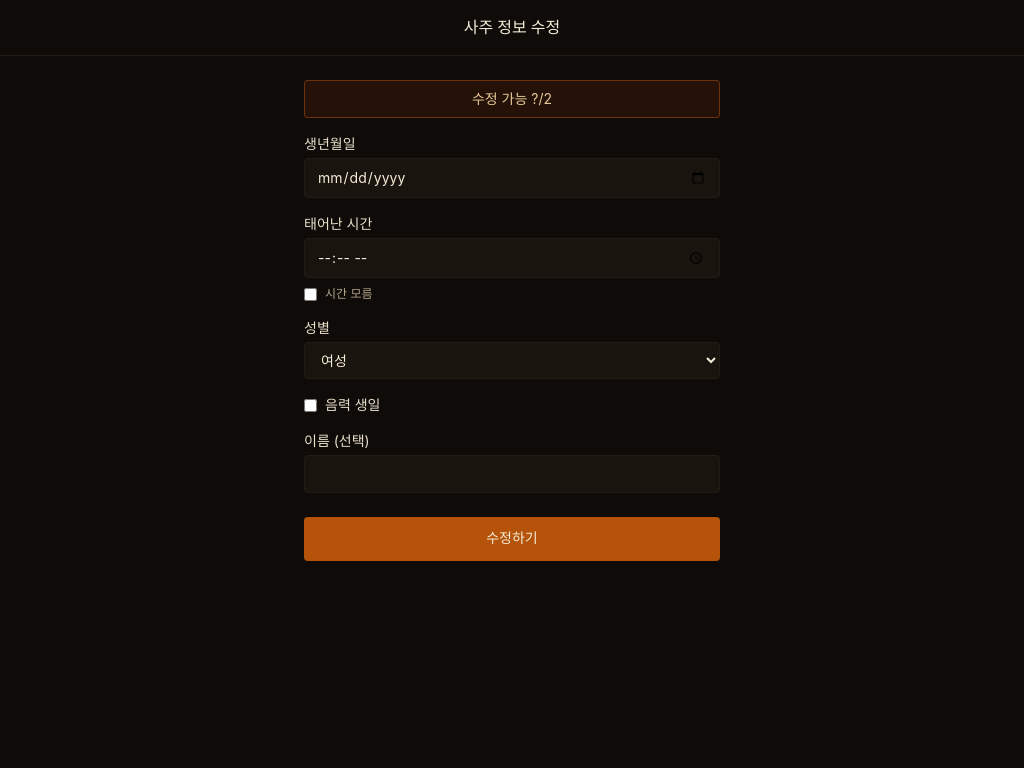
Test case: MeEditSajuPage › AC1: submit → confirm → PATCH success → counter banner updates
The image size is (1024, 768).
Expected: the element with test id "me-edit-saju-loaded" is shown, [288,56,736,767]
# Fill the form (date required).
In the date field with test id "me-edit-saju-input-date": [512, 178] box [304,158,720,198], type "1998-09-14"
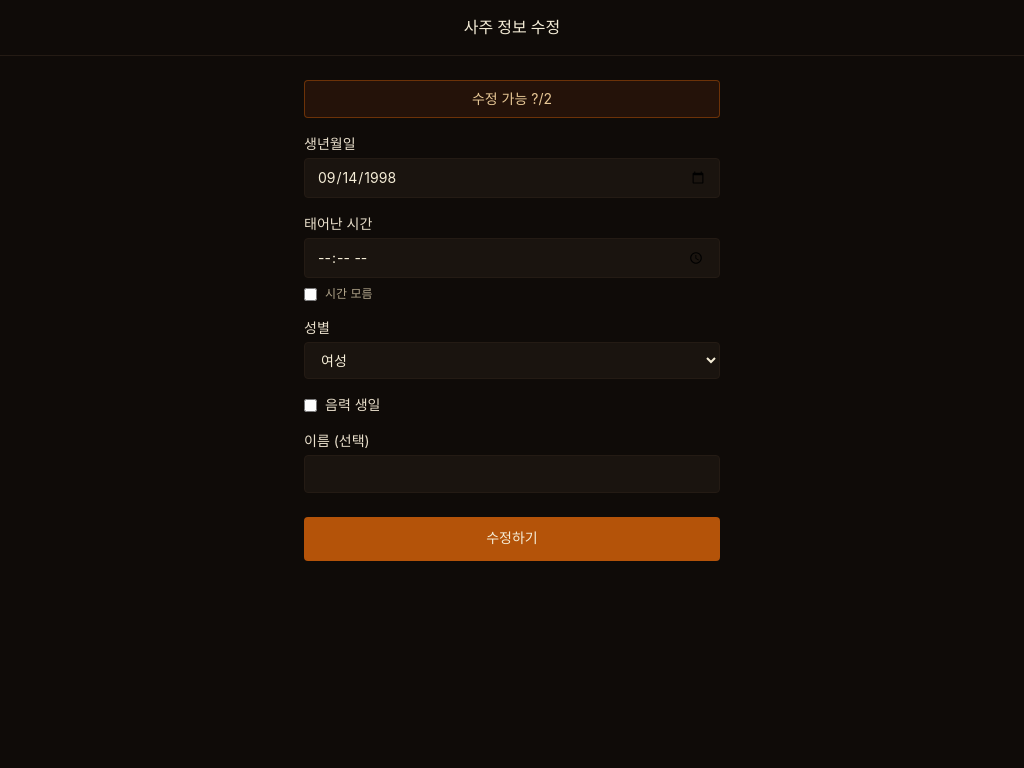
In the time field with test id "me-edit-saju-input-time": [512, 258] box [304,238,720,278], type "09:45"
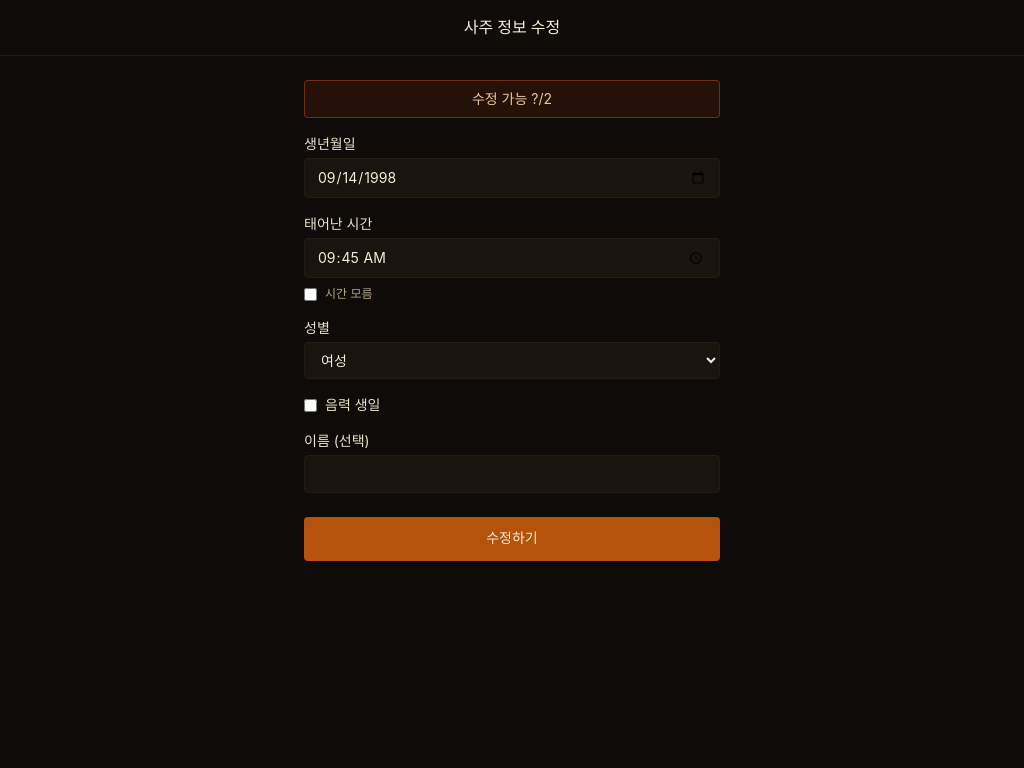
# Submit → open ConfirmModal.
Click the button with test id "me-edit-saju-submit": [512, 539] box [304,517,720,561]
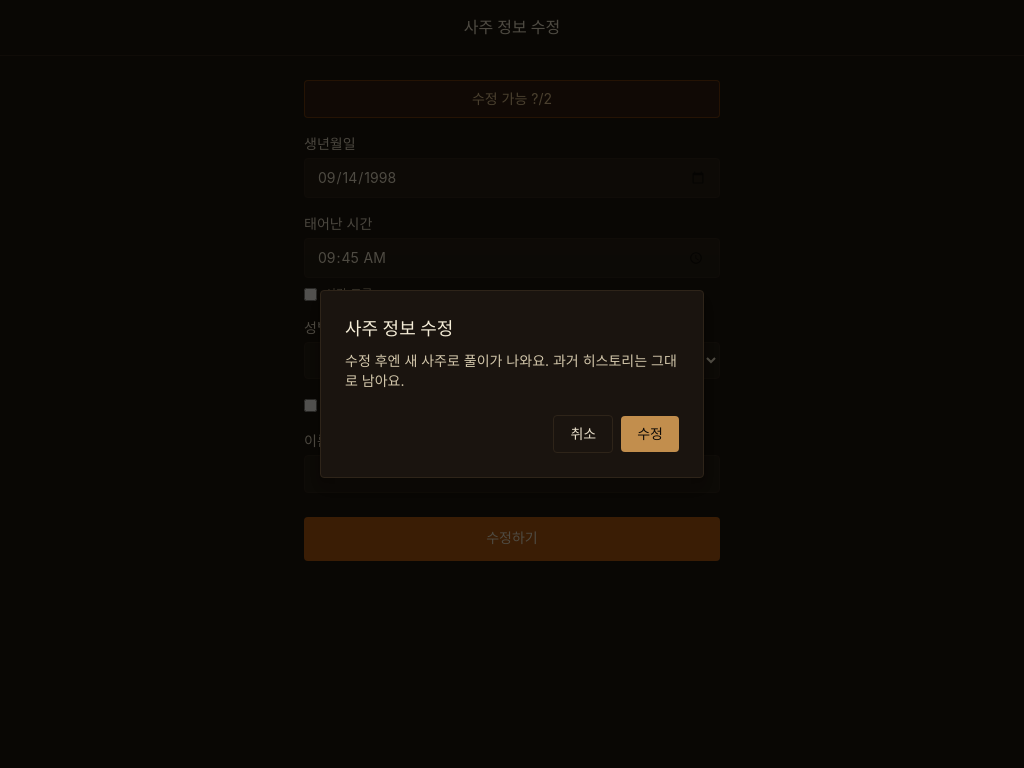
Now the text "수정 후엔 새 사주로 풀이가 나와요. 과거 히스토리는 그대로 남아요." is shown, box [345,351,679,391]
Click the button "수정": [650, 434] box [621,416,679,452]
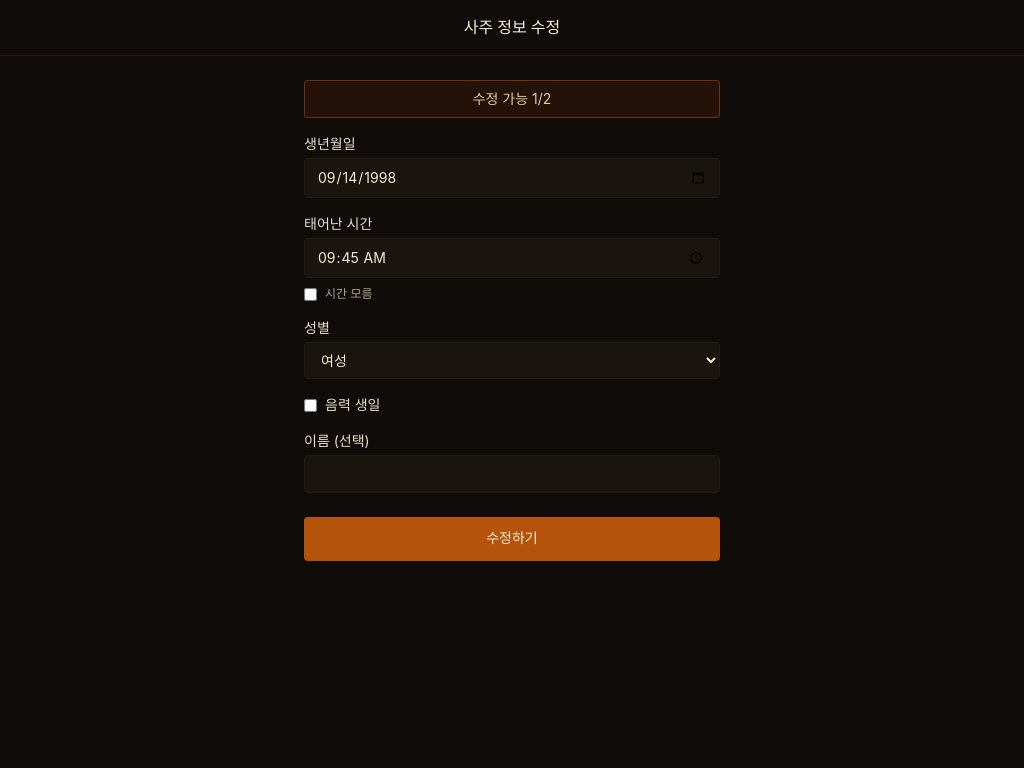
Now the text with test id "me-edit-saju-counter" shows "1/2", box [473,90,551,107]
